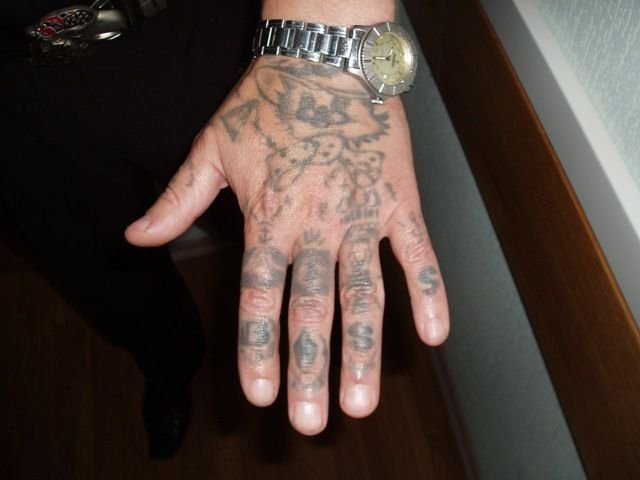tatu3_bukva: (231, 308, 280, 360), (286, 326, 323, 373), (339, 318, 385, 354), (404, 267, 449, 293)
tatu8_kot: (232, 33, 395, 204)
